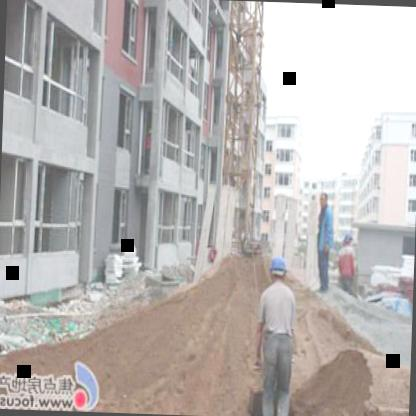head: (318, 186, 329, 216)
helmet: (267, 255, 288, 286)
